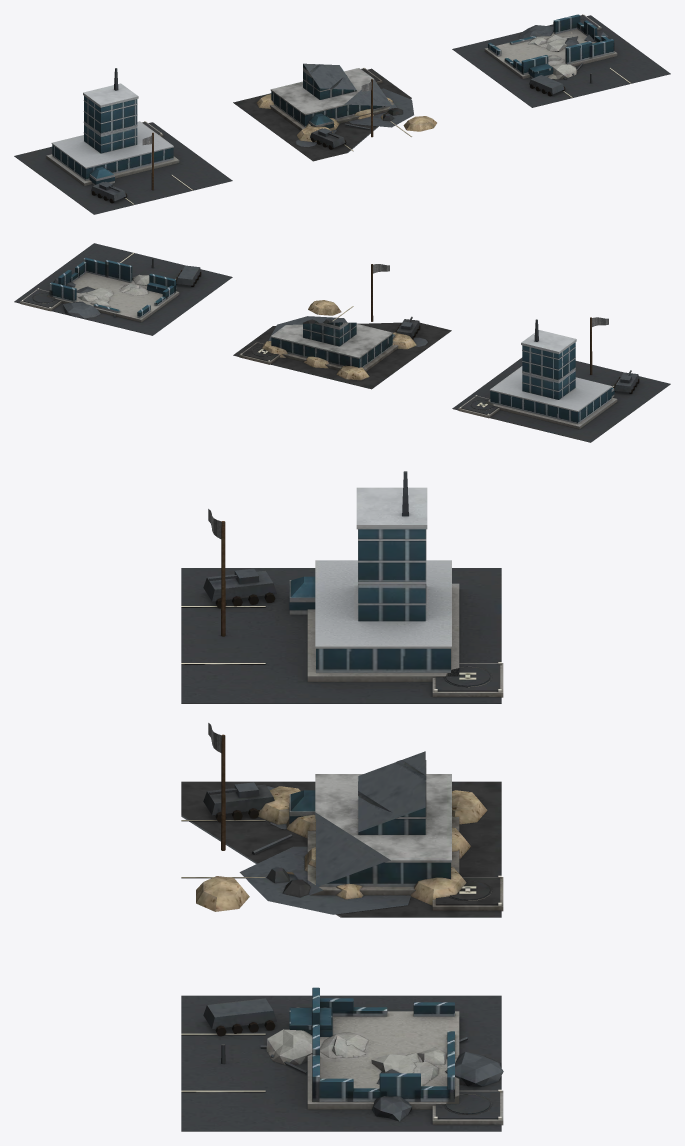
Rendered from civic-information.glb.
The picture shows the model from 3 angles, top to bottom: view 1: azimuth 30°, elevation 25°; view 2: azimuth 150°, elevation 25°; view 3: azimuth 270°, elevation 25°; orthographic projection. The views are drawn at different scales.
Visible parts, largest first — view 1: LOD0, LOD0.002, LOD0.001; view 2: LOD0, LOD0.002, LOD0.001; view 3: LOD0, LOD0.002, LOD0.001.
Part boxes in pixels (left/top/right/bottom): LOD0: left=14, top=68, right=232, bottom=214; LOD0.002: left=452, top=14, right=670, bottom=107; LOD0.001: left=233, top=63, right=436, bottom=161; LOD0: left=452, top=317, right=670, bottom=442; LOD0.002: left=14, top=243, right=232, bottom=335; LOD0.001: left=233, top=264, right=451, bottom=389; LOD0: left=181, top=471, right=503, bottom=703; LOD0.002: left=181, top=987, right=503, bottom=1131; LOD0.001: left=181, top=723, right=503, bottom=917.
Size of what is drawn, in the model's own units: 7.9 by 1.13 by 1.91.
2 materials, 2 textured.
